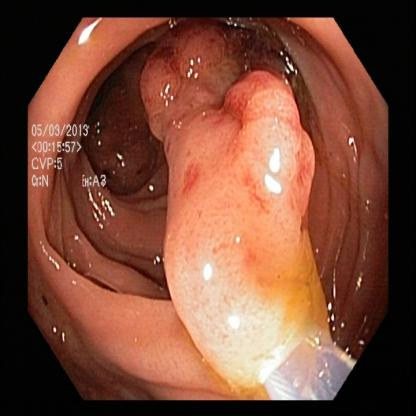Labels: (23, 118, 115, 192)
Polyps: (145, 54, 322, 206)
